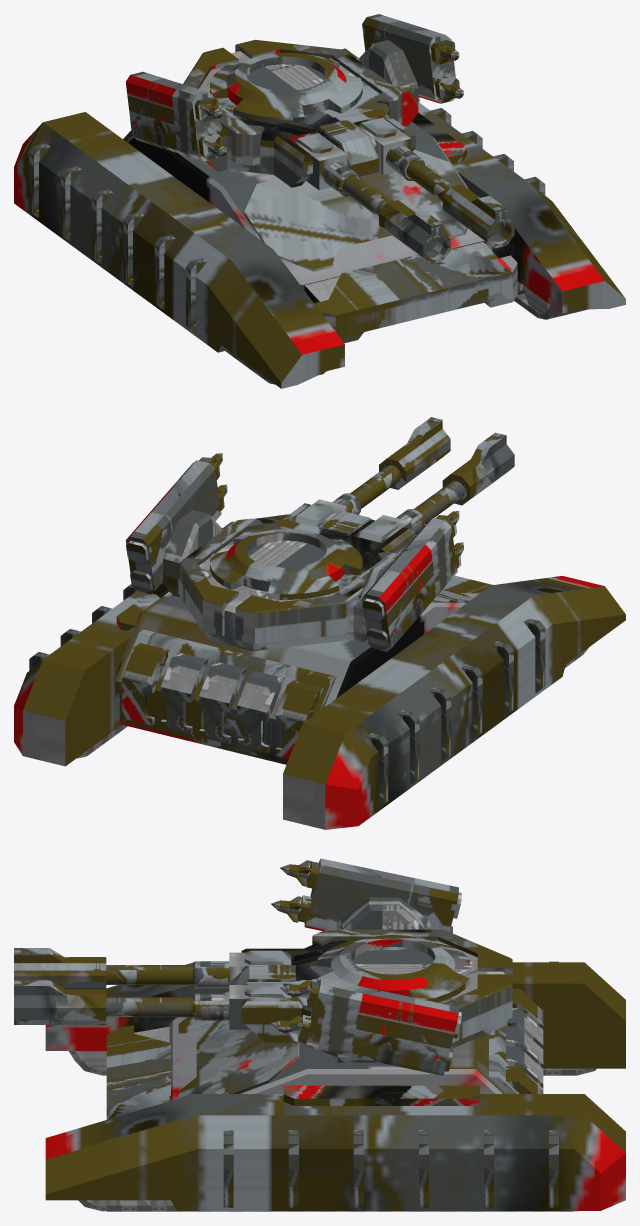
File: tank_NEW.fbx
The picture shows the model from 3 angles, top to bottom: view 1: azimuth 30°, elevation 25°; view 2: azimuth 150°, elevation 25°; view 3: azimuth 270°, elevation 25°; orthographic projection. The views are drawn at different scales.
Visible parts, largest first — view 1: tank_body, tank_turret, missle_launchers, Tank_barrel, barrel_end, barrel_base, Missiles, T_tred; view 2: tank_body, tank_turret, missle_launchers, Tank_barrel, barrel_end, barrel_base, Missiles; view 3: tank_body, tank_turret, missle_launchers, Tank_barrel, barrel_end, barrel_base, T_tred, Missiles.
Boxes of the visible parts, x1,y1,x2,y2 form: tank_body: (14, 48, 625, 388); tank_turret: (183, 39, 418, 187); missle_launchers: (126, 14, 457, 161); Tank_barrel: (342, 160, 514, 263); barrel_end: (294, 117, 411, 190); barrel_base: (322, 144, 424, 196); Missiles: (199, 41, 463, 159); T_tred: (225, 293, 588, 384); tank_body: (14, 514, 625, 829); tank_turret: (163, 503, 415, 650); missle_launchers: (126, 460, 459, 651); Tank_barrel: (350, 417, 514, 524); barrel_end: (293, 499, 411, 542); barrel_base: (332, 493, 424, 535); Missiles: (199, 453, 463, 568); tank_body: (45, 961, 625, 1210); tank_turret: (230, 897, 512, 1062); missle_launchers: (298, 858, 461, 1075); Tank_barrel: (14, 948, 192, 1024); barrel_end: (229, 950, 291, 1029); barrel_base: (193, 961, 229, 1020); T_tred: (68, 1051, 596, 1211); Missiles: (271, 860, 311, 1042).
Bounding box in the file's own units: 111 × 60.71 × 160.
